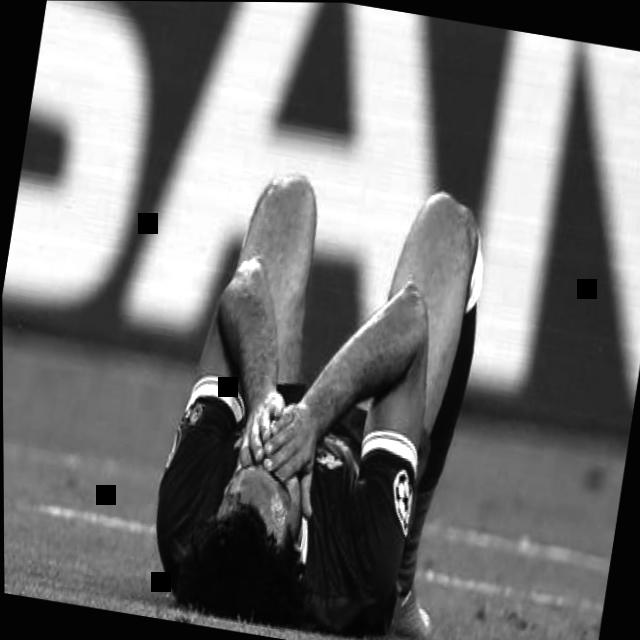Fall-Detected: (117, 122, 521, 640)
